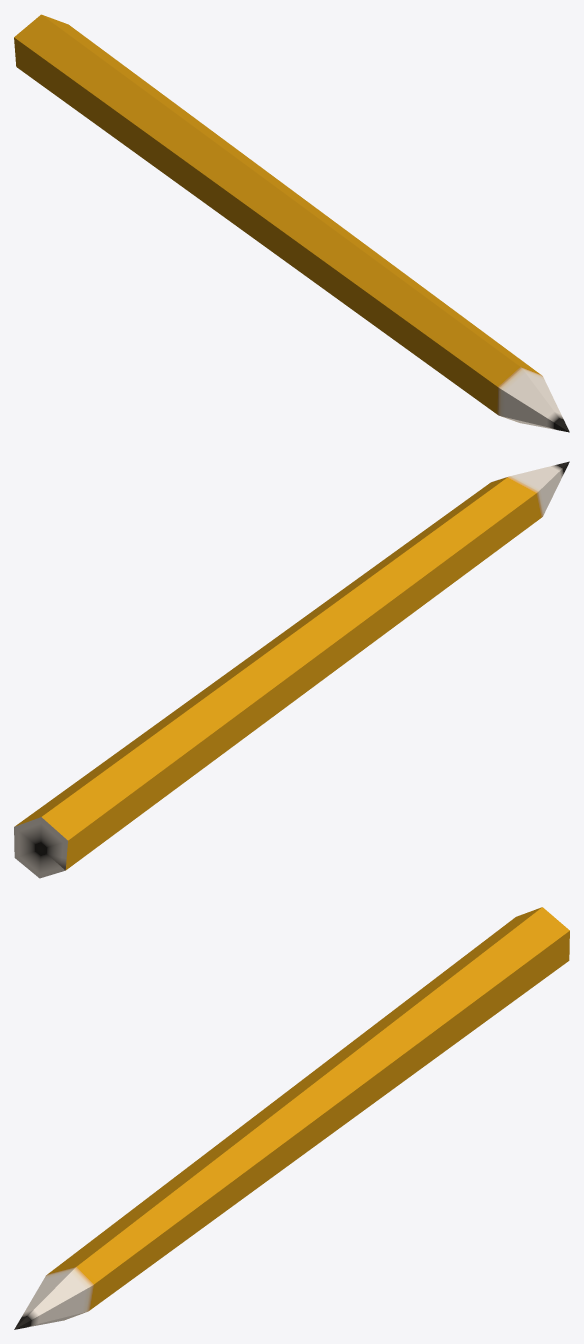
Rendered from SM_PROP_pencil_city.fbx.
The picture shows the model from 3 angles, top to bottom: view 1: azimuth 30°, elevation 25°; view 2: azimuth 150°, elevation 25°; view 3: azimuth 330°, elevation 25°; orthographic projection.
Visible parts, largest first — view 1: SM_PROP_pencil_city; view 2: SM_PROP_pencil_city; view 3: SM_PROP_pencil_city.
Part boxes in pixels (x1,y1,x2,y2): SM_PROP_pencil_city: [14, 14, 569, 432]; SM_PROP_pencil_city: [14, 461, 569, 878]; SM_PROP_pencil_city: [14, 907, 569, 1329].
Bounding box in the file's own units: 1.51 × 1.62 × 25.24.
